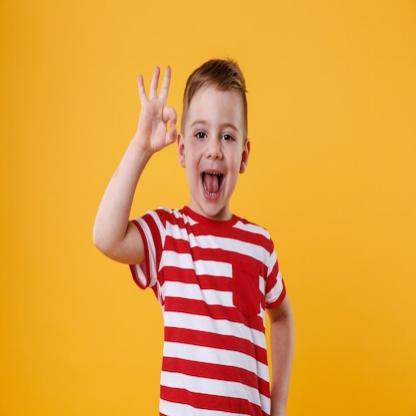ok: (134, 64, 180, 156)
